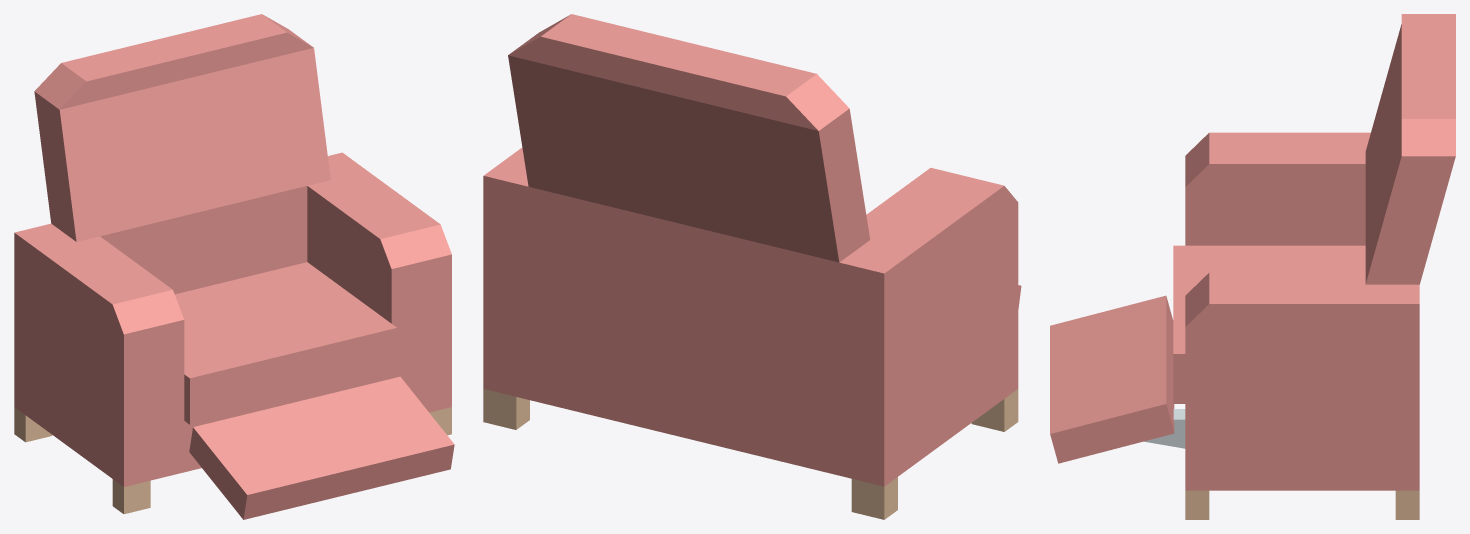
File: kn-lounge-chair-relax.glb
3 views of the same model, side by side, from view 1: azimuth 30°, elevation 25°; view 2: azimuth 150°, elevation 25°; view 3: azimuth 270°, elevation 25° (orthographic). The views are drawn at different scales.
Parts seen in each view (by area): view 1: loungeChairRelax(Clone); view 2: loungeChairRelax(Clone); view 3: loungeChairRelax(Clone).
Boxes of the visible parts, left/top/right/bottom form: loungeChairRelax(Clone): left=14, top=14, right=454, bottom=519; loungeChairRelax(Clone): left=483, top=14, right=1021, bottom=519; loungeChairRelax(Clone): left=1050, top=14, right=1455, bottom=519.
Bounding box in the file's own units: 1 × 1 × 1.
